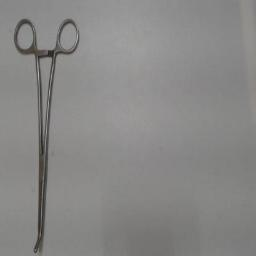Lahey Forceps: (8, 14, 84, 254)
